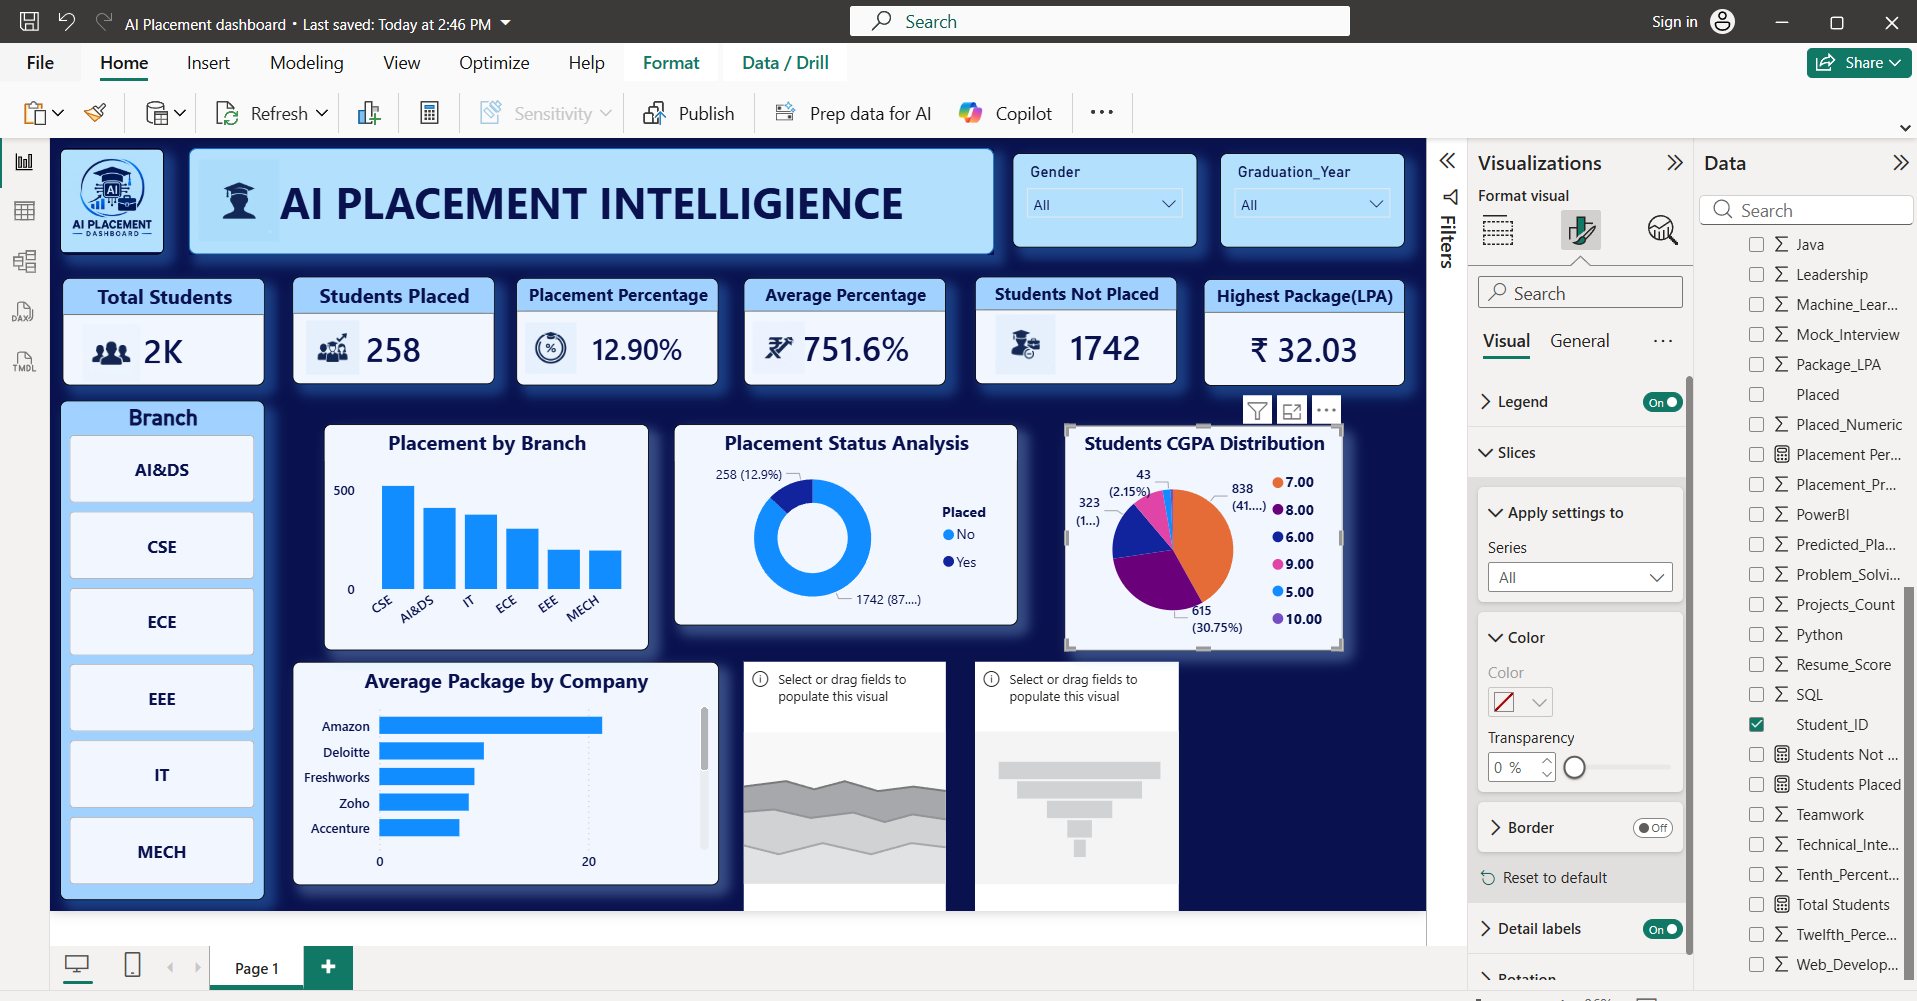

This screenshot's page, from the dashboard's own definition file:
{"tool":"powerbi","page":{"name":"Page 1","canvas":[1280,720],"ordinal":0},"visuals":[{"type":"image","box":[8.9,8.9,96.8,99.1],"z":0},{"type":"shape","box":[129.1,8.9,749.2,99.1],"z":1000},{"type":"image","box":[138.4,18.6,75.6,79.1],"z":2000},{"type":"advancedSlicerVisual","fields":{"Values":["Sheet1.Branch"]},"box":[9.3,244.2,190.7,465.1],"z":3000},{"type":"slicer","fields":{"Values":["Sheet1.Graduation_Year"]},"box":[1088.4,14,172.1,88.4],"z":4000},{"type":"slicer","fields":{"Values":["Sheet1.Gender"]},"box":[895.4,14,172.1,88.4],"z":5000},{"type":"cardVisual","title":"Total Students","fields":{"Data":["Sheet1.Total Students"]},"box":[11.6,130.2,188.4,100],"z":6000},{"type":"image","box":[30.2,170.9,53.5,58.1],"z":7000},{"type":"cardVisual","title":"Students Placed","fields":{"Data":["Sheet1.Students Placed"]},"box":[225.6,129.1,188.4,100],"z":8000},{"type":"image","box":[234.9,169.8,55.8,50],"z":9000},{"type":"cardVisual","title":"Placement Percentage","fields":{"Data":["Sheet1.Placement Percentage"]},"box":[433.7,130.2,188.4,100],"z":10000},{"type":"image","box":[441.9,169.8,47.7,51.2],"z":11000},{"type":"cardVisual","title":"Average Percentage","fields":{"Data":["Sheet1.Average Package"]},"box":[645.4,130.2,188.4,100],"z":12000},{"type":"cardVisual","title":"Highest Package(LPA)","fields":{"Data":["Sheet1.Highest Package"]},"box":[1073.3,131.4,187.2,98.8],"z":13000},{"type":"image","box":[653.5,169.8,48.8,50],"z":14000},{"type":"cardVisual","title":"Students Not Placed ","fields":{"Data":["Sheet1.Students Not Placed"]},"box":[860.5,129.1,188.4,100],"z":15000},{"type":"image","box":[877.9,164,59.3,55.8],"z":16000},{"type":"clusteredBarChart","fields":{"Category":["Sheet1.Company"],"Y":["Sheet1.Average Package"]},"box":[225.6,507.9,515.2,201.5],"z":17000},{"type":"donutChart","title":" Placement Status Analysis","fields":{"Category":["Sheet1.Placed"],"Y":["CountNonNull(Sheet1.Student_ID)"]},"box":[575.5,255.8,319.7,220.8],"z":18000},{"type":"clusteredColumnChart","title":"Placement by Branch","fields":{"Category":["Sheet1.Branch"],"Y":["CountNonNull(Sheet1.Student_ID)"]},"box":[225.6,255.8,330.6,222],"z":19000},{"type":"funnel","title":"Students CGPA Distribution","fields":{"Category":["Sheet1.CGPA (bins)"],"Y":["CountNonNull(Sheet1.Student_ID)"]},"box":[772.1,507.9,476.5,201.5],"z":20000},{"type":"pieChart","title":"Average Students Skill ","fields":{"Category":["Sheet1.Skill"],"Y":["Avg(Sheet1.Skill Score)"]},"box":[918.1,255.8,340.2,220.8],"z":20001}]}

Visuals, with their boxes on the page's 1280x720 design canvas (x1, y1, x2, y2). These are canvas units, not pixel positions in the 1917x1001 screenshot, which may show the page scaled, cropped or inside an application window:
image: select_region(9, 9, 106, 108)
shape: select_region(129, 9, 878, 108)
image: select_region(138, 19, 214, 98)
advancedSlicerVisual - Sheet1.Branch: select_region(9, 244, 200, 709)
slicer - Sheet1.Graduation_Year: select_region(1088, 14, 1260, 102)
slicer - Sheet1.Gender: select_region(895, 14, 1068, 102)
"Total Students" cardVisual: select_region(12, 130, 200, 230)
image: select_region(30, 171, 84, 229)
"Students Placed" cardVisual: select_region(226, 129, 414, 229)
image: select_region(235, 170, 291, 220)
"Placement Percentage" cardVisual: select_region(434, 130, 622, 230)
image: select_region(442, 170, 490, 221)
"Average Percentage" cardVisual: select_region(645, 130, 834, 230)
"Highest Package(LPA)" cardVisual: select_region(1073, 131, 1260, 230)
image: select_region(654, 170, 702, 220)
"Students Not Placed " cardVisual: select_region(860, 129, 1049, 229)
image: select_region(878, 164, 937, 220)
clusteredBarChart - Sheet1.Company x Sheet1.Average Package: select_region(226, 508, 741, 709)
" Placement Status Analysis" donutChart: select_region(576, 256, 895, 477)
"Placement by Branch" clusteredColumnChart: select_region(226, 256, 556, 478)
"Students CGPA Distribution" funnel: select_region(772, 508, 1249, 709)
"Average Students Skill " pieChart: select_region(918, 256, 1258, 477)
